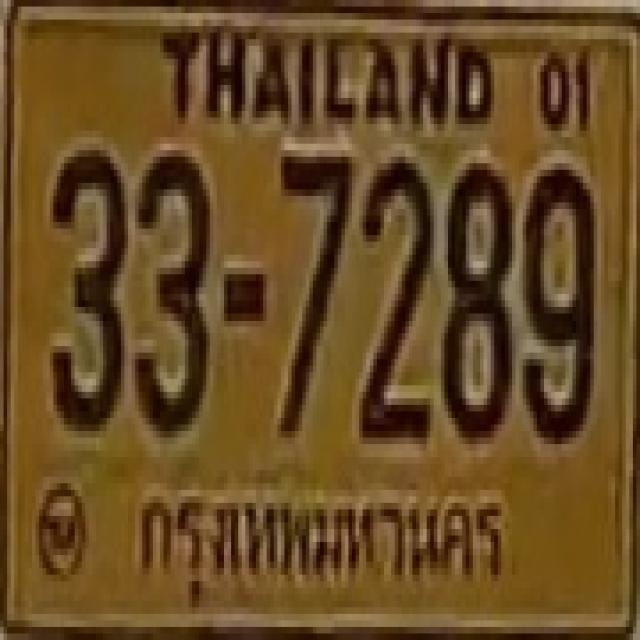2: (357, 153, 432, 434)
3: (50, 143, 124, 424), (132, 147, 206, 428)
7: (278, 150, 348, 431)
8: (441, 157, 508, 431)
9: (523, 163, 590, 438)
BKK: (125, 468, 516, 621)
